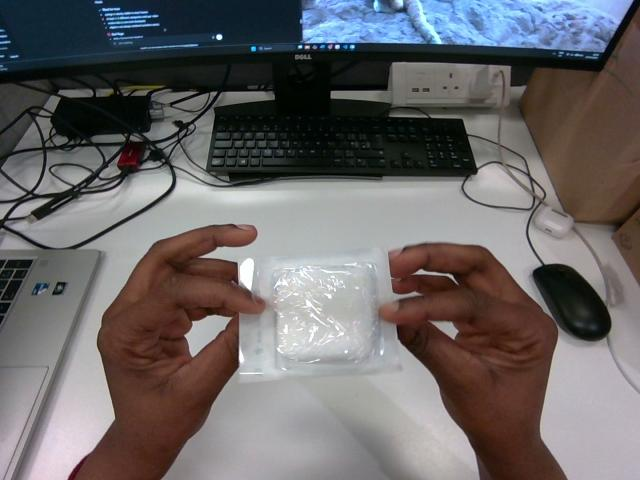gauze: (239, 249, 398, 381)
